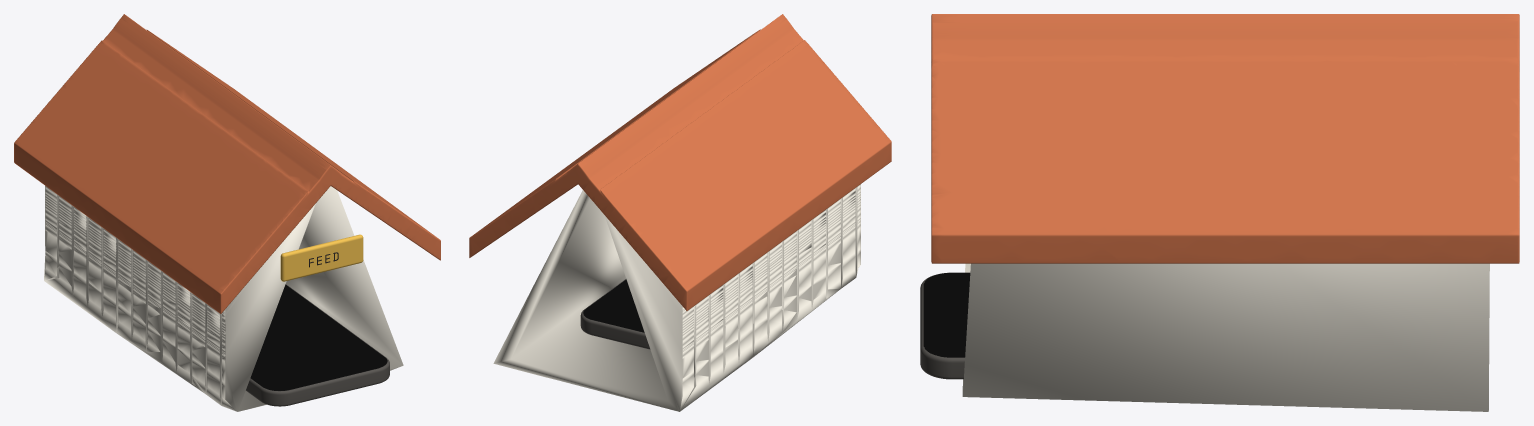
The model's file is doghouse.glb.
The picture shows the model from 3 angles, left to right: view 1: azimuth 30°, elevation 25°; view 2: azimuth 150°, elevation 25°; view 3: azimuth 270°, elevation 25°; orthographic projection. The views are drawn at different scales.
Parts seen in each view (by area): view 1: dog-walls, phone-screen, phone-frame; view 2: dog-walls, phone-screen, phone-frame; view 3: dog-walls, phone-screen, phone-frame.
Part boxes in pixels (left/top/right/bottom): dog-walls: left=14, top=14, right=440, bottom=411; phone-screen: left=250, top=284, right=387, bottom=390; phone-frame: left=246, top=284, right=389, bottom=406; dog-walls: left=469, top=14, right=891, bottom=411; phone-screen: left=583, top=279, right=644, bottom=332; phone-frame: left=580, top=279, right=650, bottom=349; dog-walls: left=931, top=14, right=1519, bottom=411; phone-screen: left=923, top=272, right=970, bottom=357; phone-frame: left=920, top=272, right=964, bottom=379.
Bounding box in the file's own units: 0.1244 × 0.1276 × 0.2062.
Materials: 4 (4 with a texture image).
